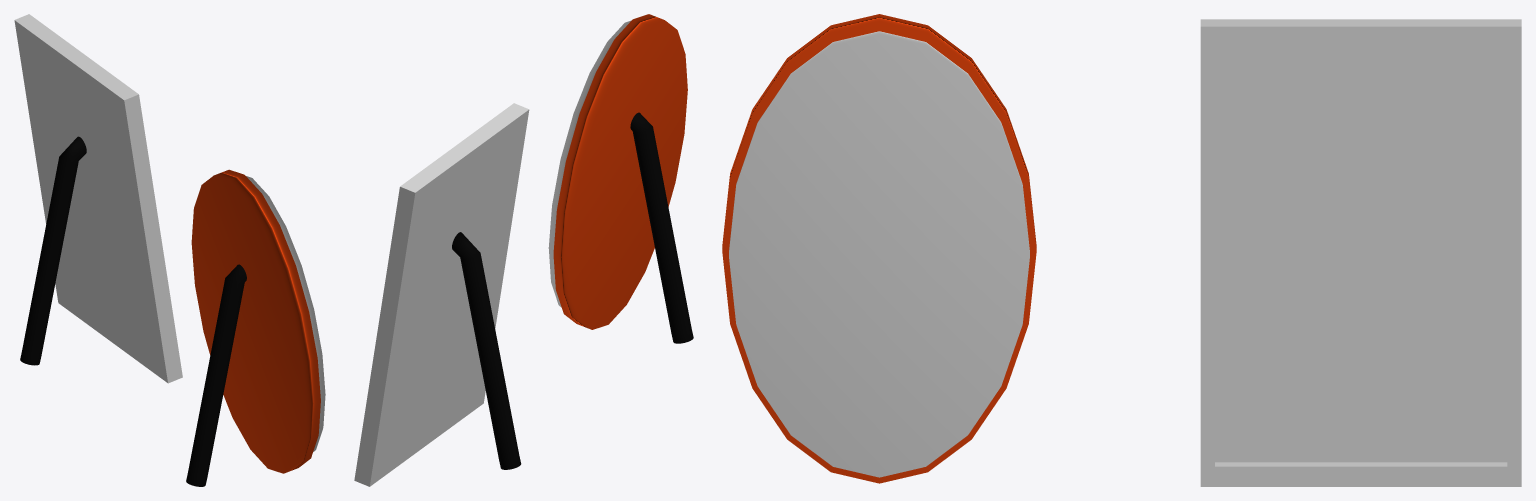
Rendered from Zerkala.fbx.
The picture shows the model from 3 angles, left to right: view 1: azimuth 30°, elevation 25°; view 2: azimuth 150°, elevation 25°; view 3: azimuth 270°, elevation 25°; orthographic projection. The views are drawn at different scales.
Visible parts, largest first — view 1: Куб, Цилиндр.001, Цилиндр.003, Цилиндр.002, Цилиндр; view 2: Куб, Цилиндр.001, Цилиндр.003, Цилиндр.002, Цилиндр; view 3: Куб, Цилиндр, Цилиндр.001.
Boxes of the visible parts, box(x1,y1,x2,y2) form: Куб: box(14, 14, 182, 383); Цилиндр.001: box(191, 169, 320, 473); Цилиндр.003: box(20, 136, 86, 365); Цилиндр.002: box(186, 264, 246, 486); Цилиндр: box(246, 176, 325, 451); Куб: box(354, 103, 529, 486); Цилиндр.001: box(553, 14, 687, 329); Цилиндр.003: box(452, 232, 521, 469); Цилиндр.002: box(630, 112, 693, 343); Цилиндр: box(548, 20, 631, 307); Куб: box(1200, 19, 1521, 486); Цилиндр: box(729, 31, 1029, 477); Цилиндр.001: box(722, 14, 1036, 483).
Size of the model in its own units: 118 by 321 by 531.
